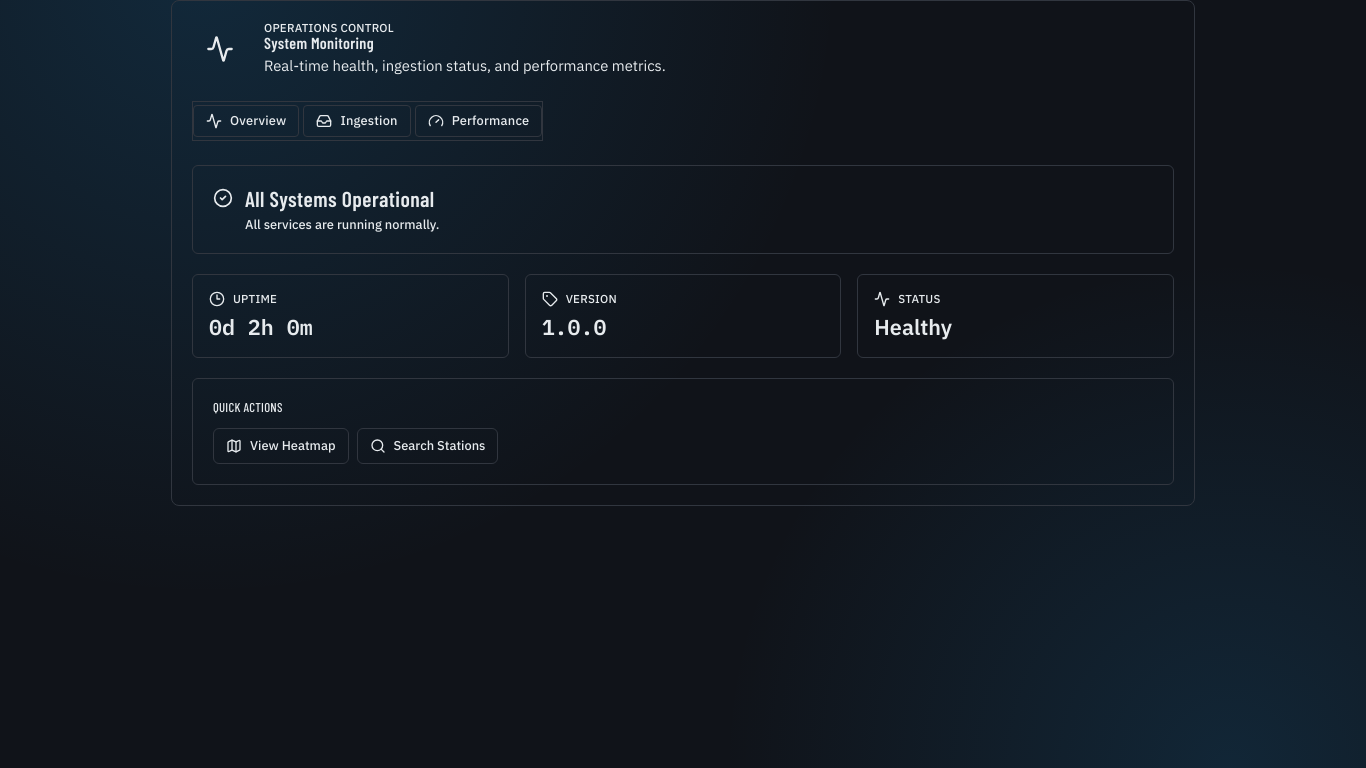
Test case: MonitoringPage › shows failed GTFS import details on Ingestion tab
Click the tab "Ingestion" at coordinates (357, 121), box x1=303 y1=105 x2=411 y2=137
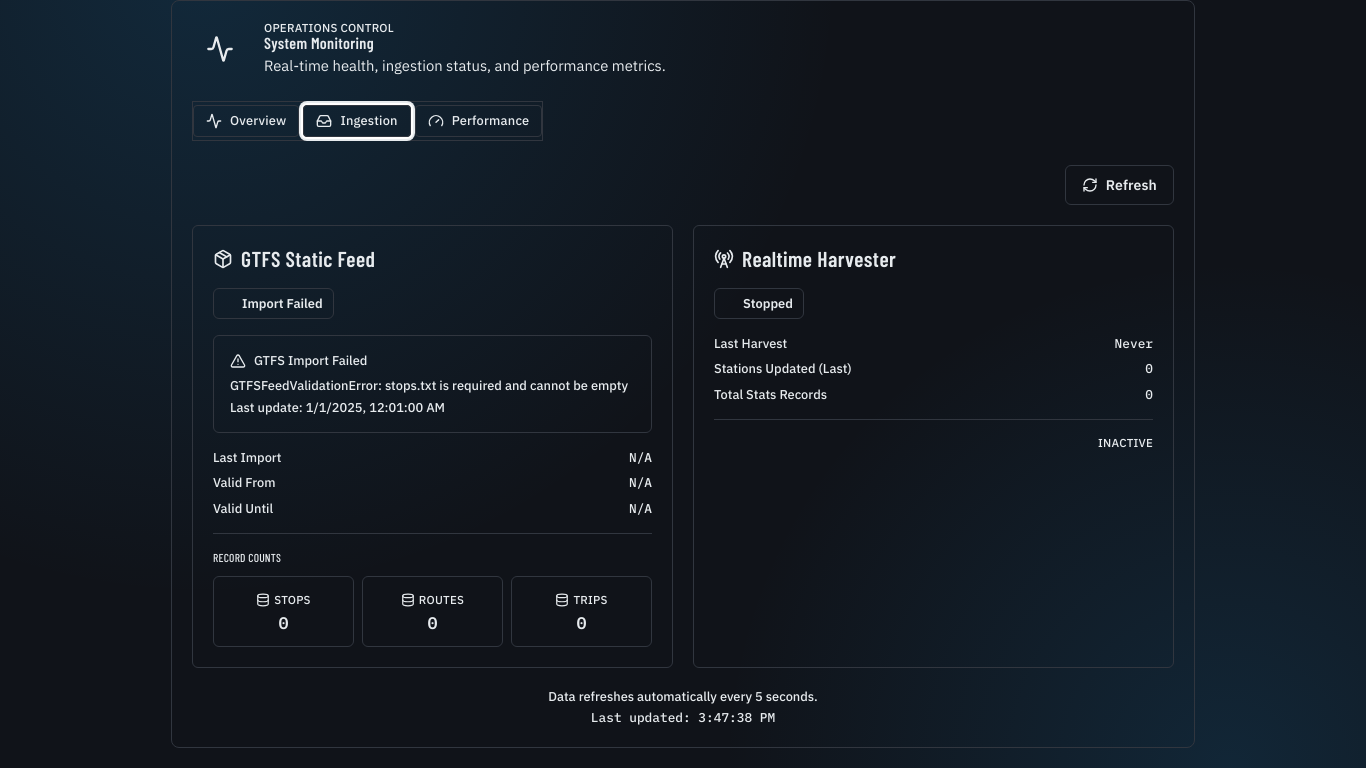
Result: the text "Import Failed" is shown at x1=242 y1=295 x2=323 y2=312
Result: the text "GTFSFeedValidationError:" is shown at x1=230 y1=377 x2=385 y2=394
Result: the text "stops.txt is required" is shown at x1=385 y1=377 x2=628 y2=394
